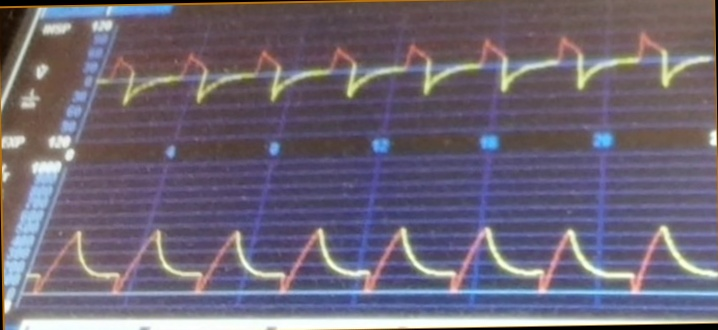Flow: (111, 22, 711, 127)
Leakage Volume: (46, 193, 715, 315)
